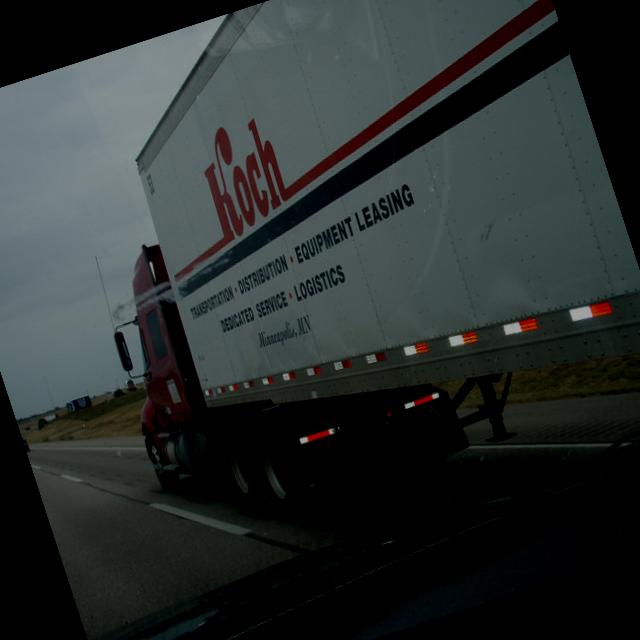Vehicle: (20, 0, 640, 552), (21, 433, 30, 451)
